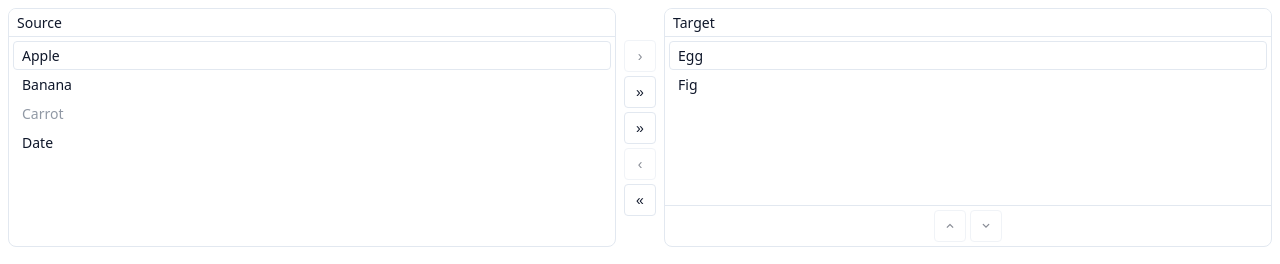
Test case: PickList › move selected to source moves back
Click the option "Egg" at [691, 56], box [669,41,1267,70]
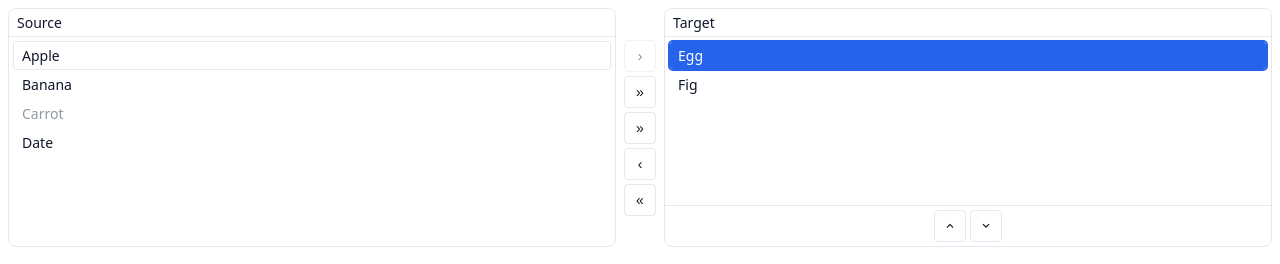
Click the button named "Move selected to source" at [640, 164], box [624,148,656,180]
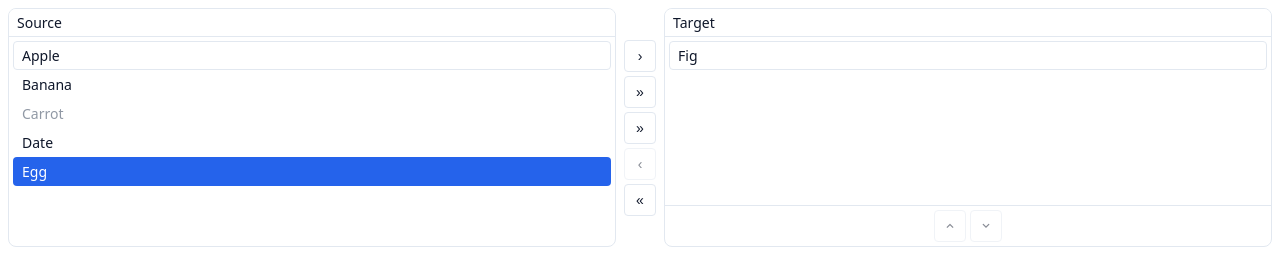
Result: the list named "Source" shows "Egg" at [22,162,47,181]
